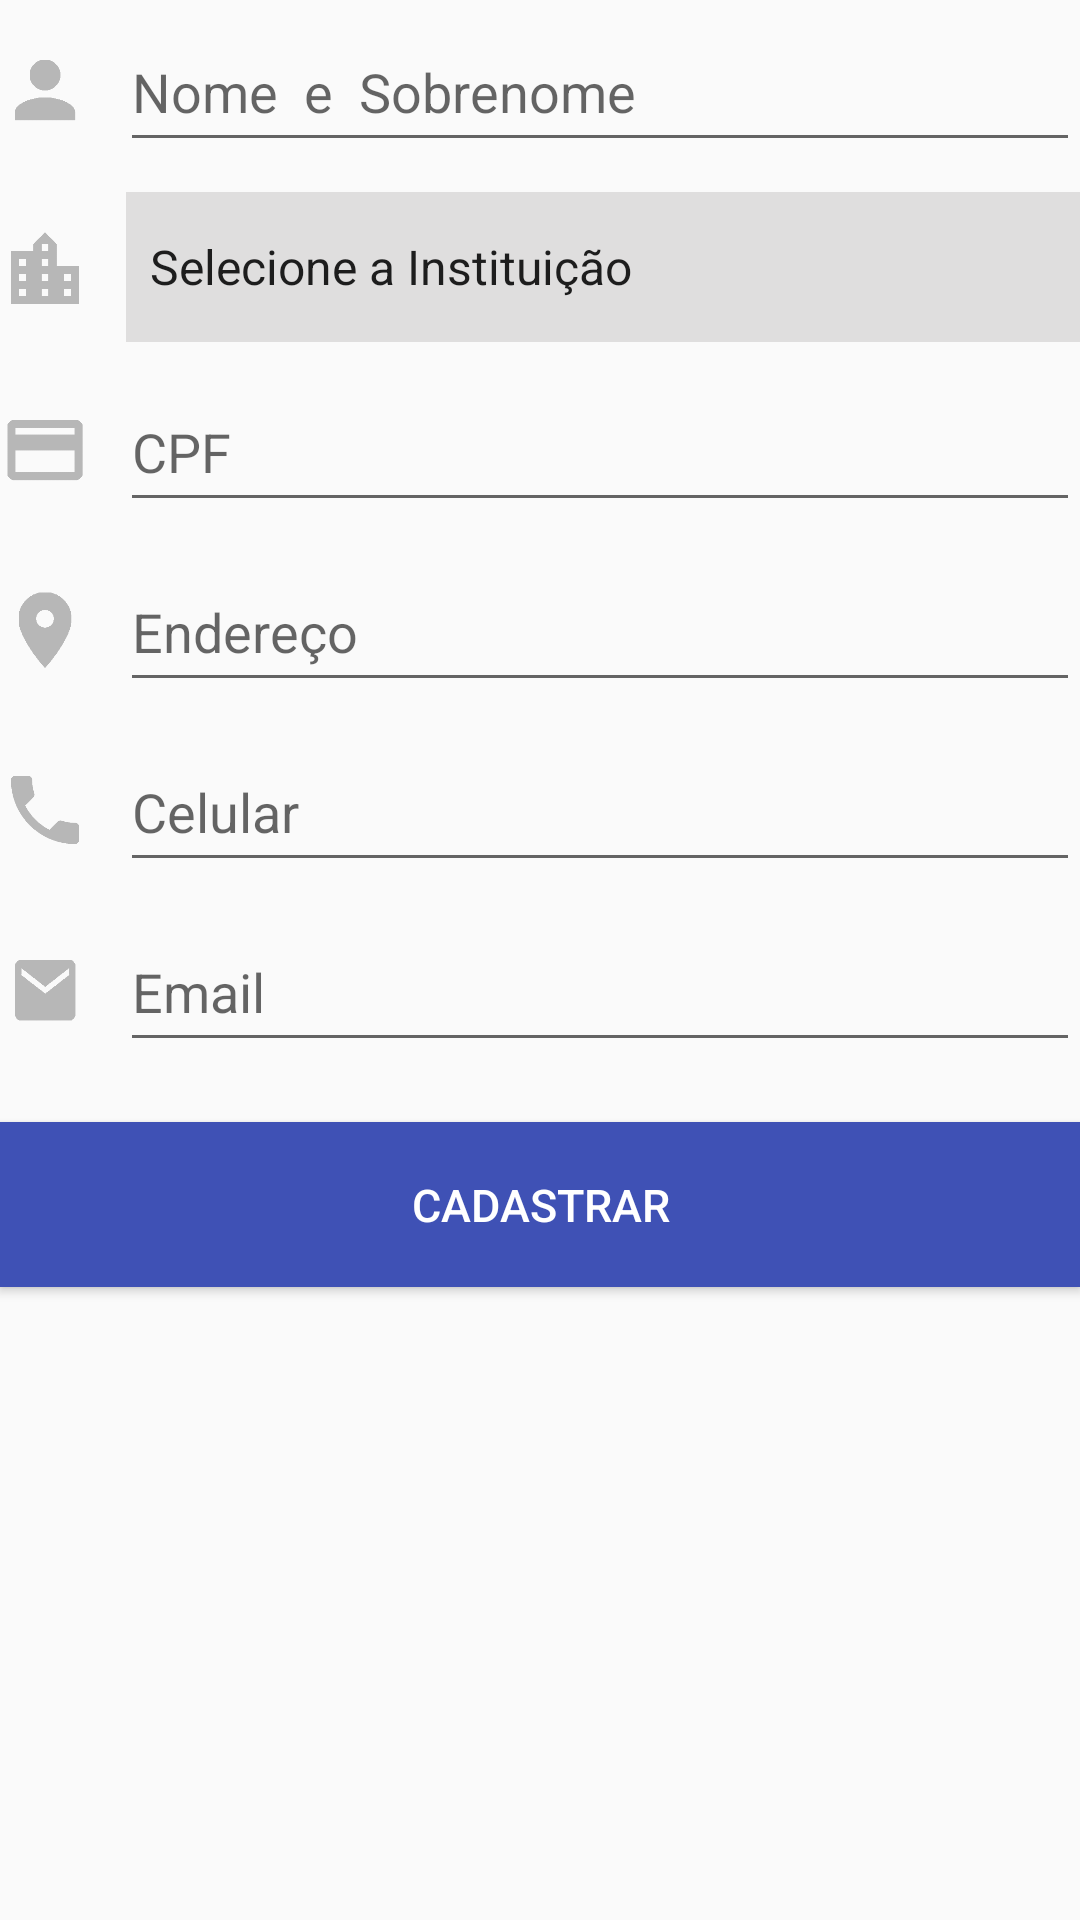

Icon bounding boxes for this 1080px x 1920px phone screenshot, format {"x1": x1, "y1": y1, "x2": x2, "y2": y2}:
aluno: {"x1": 15, "y1": 60, "x2": 75, "y2": 120}
endereco: {"x1": 19, "y1": 592, "x2": 71, "y2": 668}
instituicao de ensino: {"x1": 11, "y1": 233, "x2": 79, "y2": 304}
